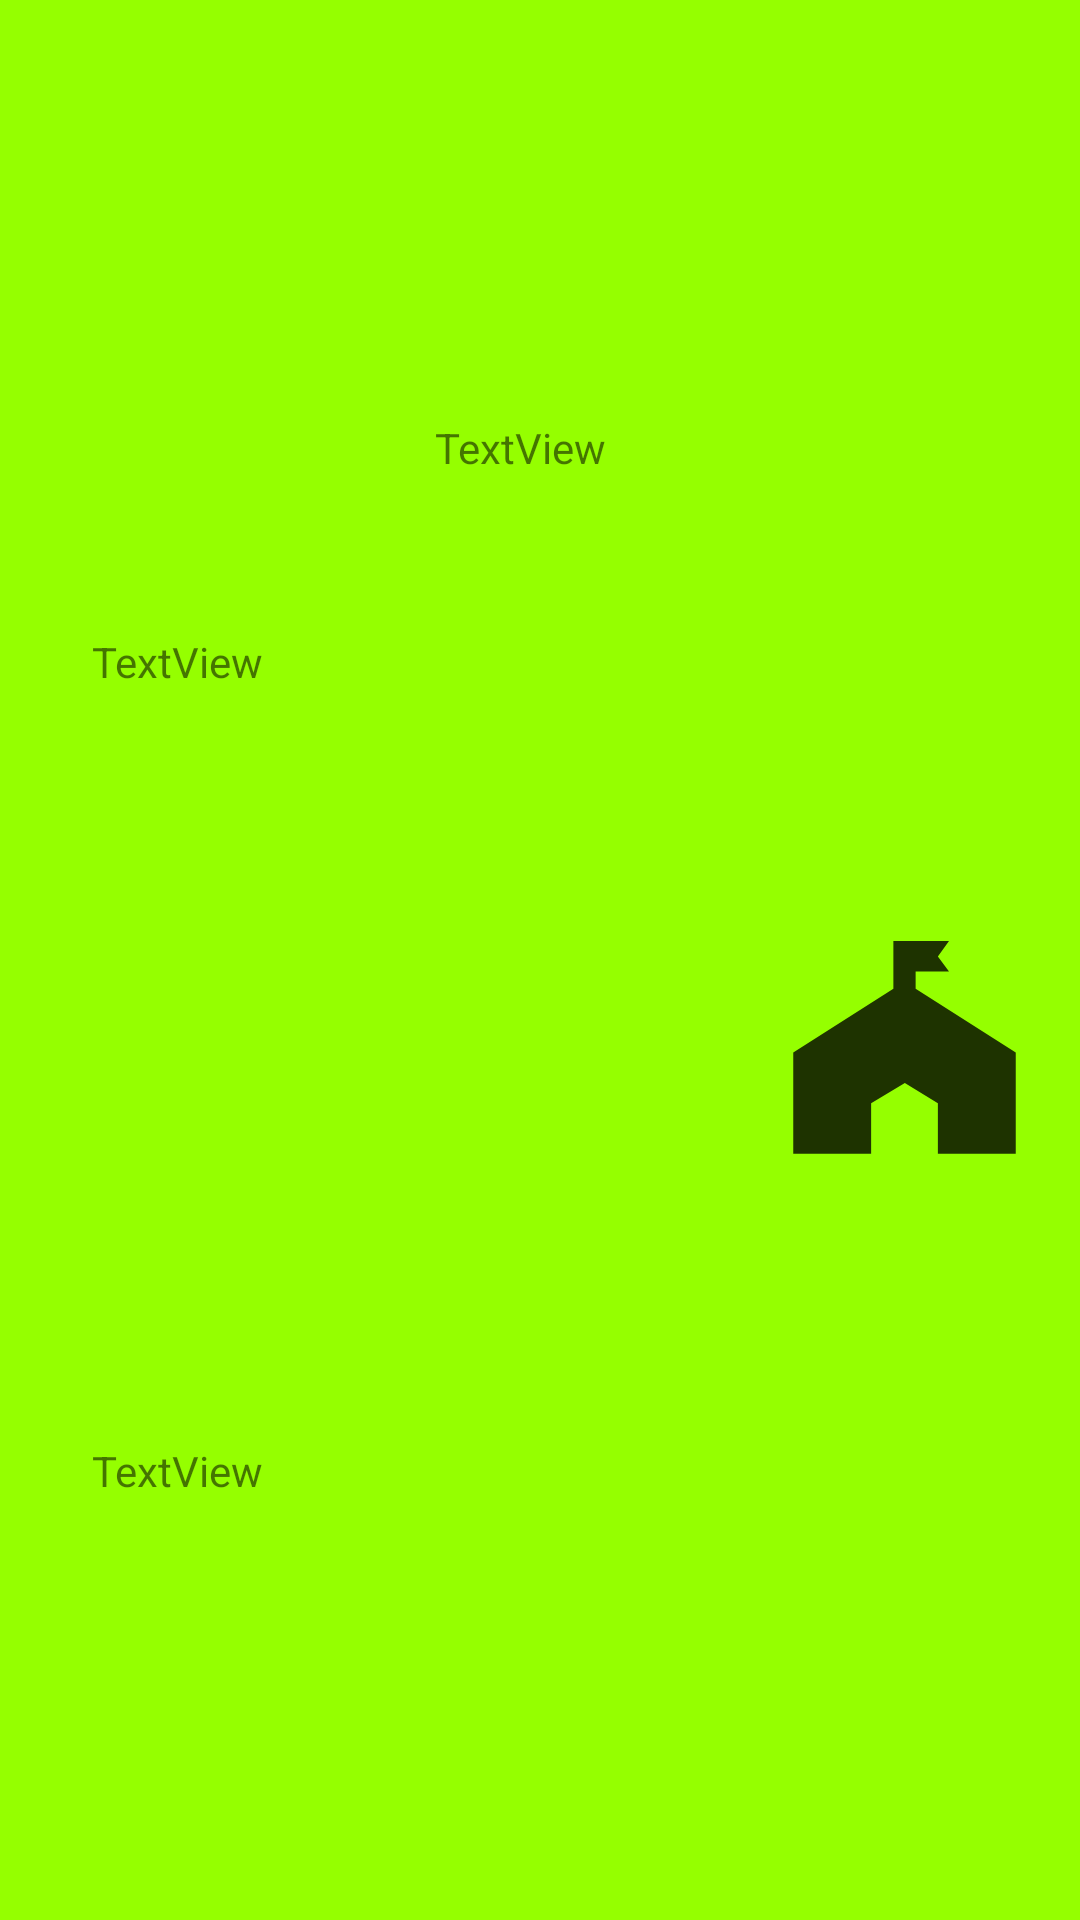

Locate icon controls on the screen. Image size 1080px x 1920px, boxes as (x1, y1, x2, y2).
circoli: (793, 941, 1016, 1154)
